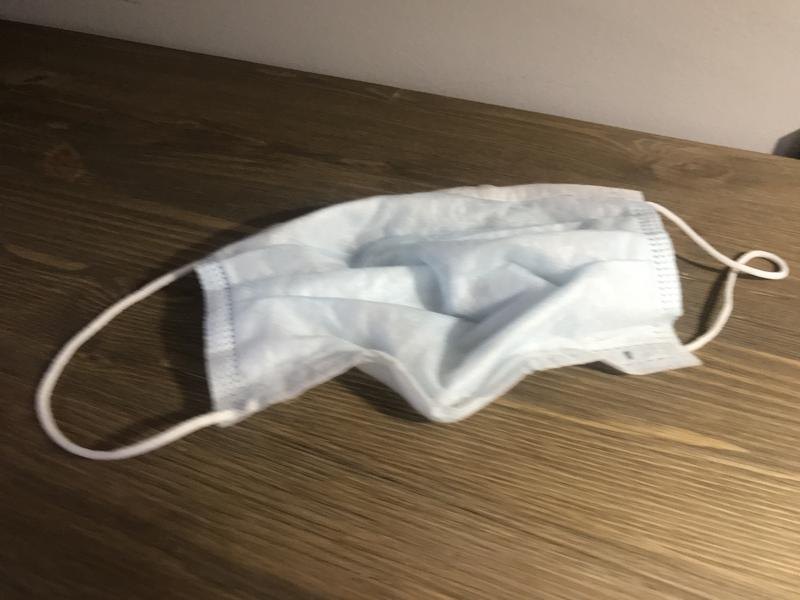medical_mask: (35, 184, 787, 461)
